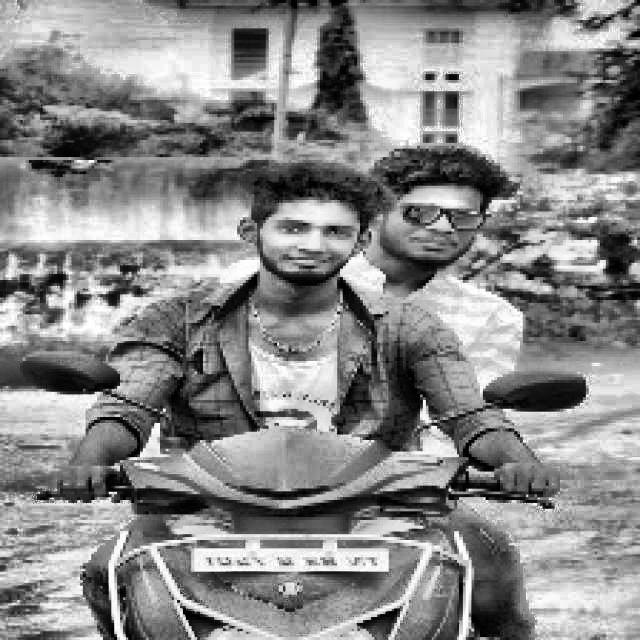motorcycle: (8, 331, 640, 640)
